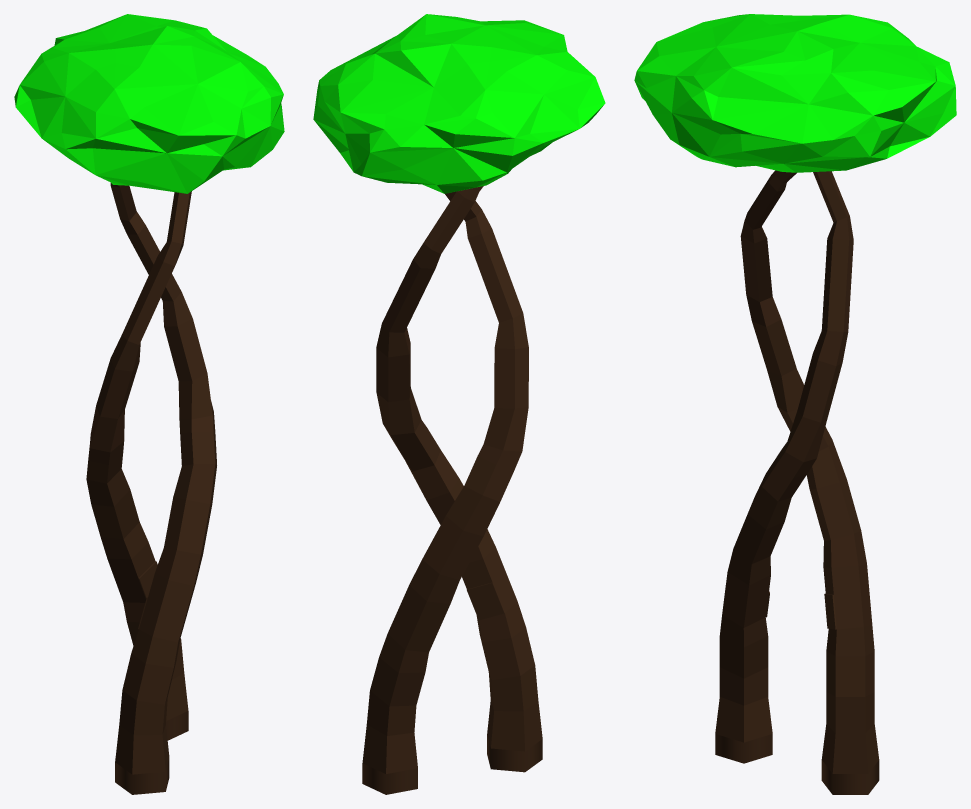
The model's file is tree3.FBX.
3 views of the same model, side by side, from view 1: azimuth 30°, elevation 25°; view 2: azimuth 150°, elevation 25°; view 3: azimuth 270°, elevation 25° (orthographic). The views are drawn at different scales.
Visible parts, largest first — view 1: Hedra001, Cylinder001, Cylinder002; view 2: Hedra001, Cylinder002, Cylinder001; view 3: Hedra001, Cylinder002, Cylinder001.
Boxes of the visible parts, x1,y1,x2,y2 form: Hedra001: [14, 14, 284, 193]; Cylinder001: [110, 183, 216, 794]; Cylinder002: [86, 191, 191, 740]; Hedra001: [313, 14, 605, 193]; Cylinder002: [362, 191, 528, 794]; Cylinder001: [376, 186, 542, 772]; Hedra001: [634, 14, 956, 172]; Cylinder002: [740, 170, 879, 794]; Cylinder001: [715, 171, 853, 763].
Size of the model in its own units: 1245 by 3610 by 1430.
